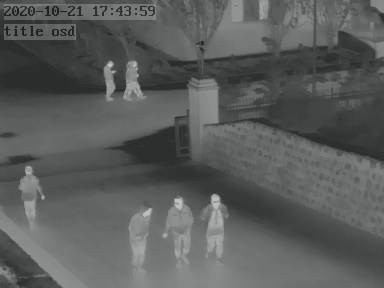person: (161, 193, 192, 267), (127, 198, 152, 274), (202, 190, 227, 264), (17, 162, 45, 227), (124, 60, 141, 100), (103, 59, 118, 100)
